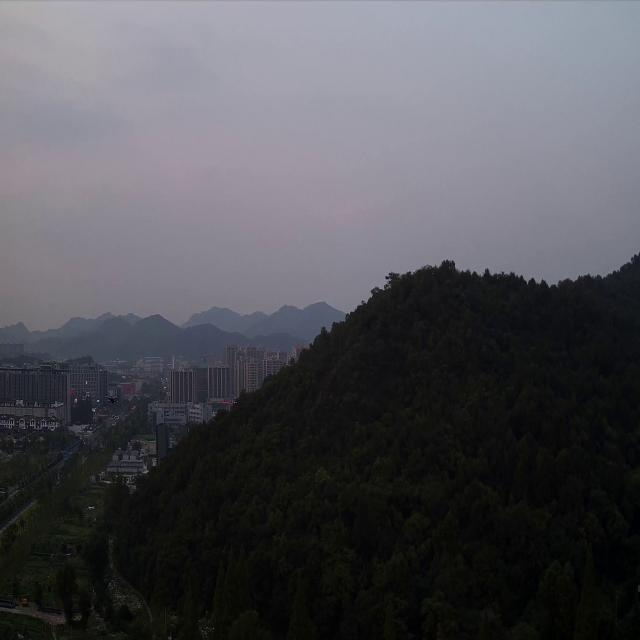drone: (105, 395, 118, 403)
